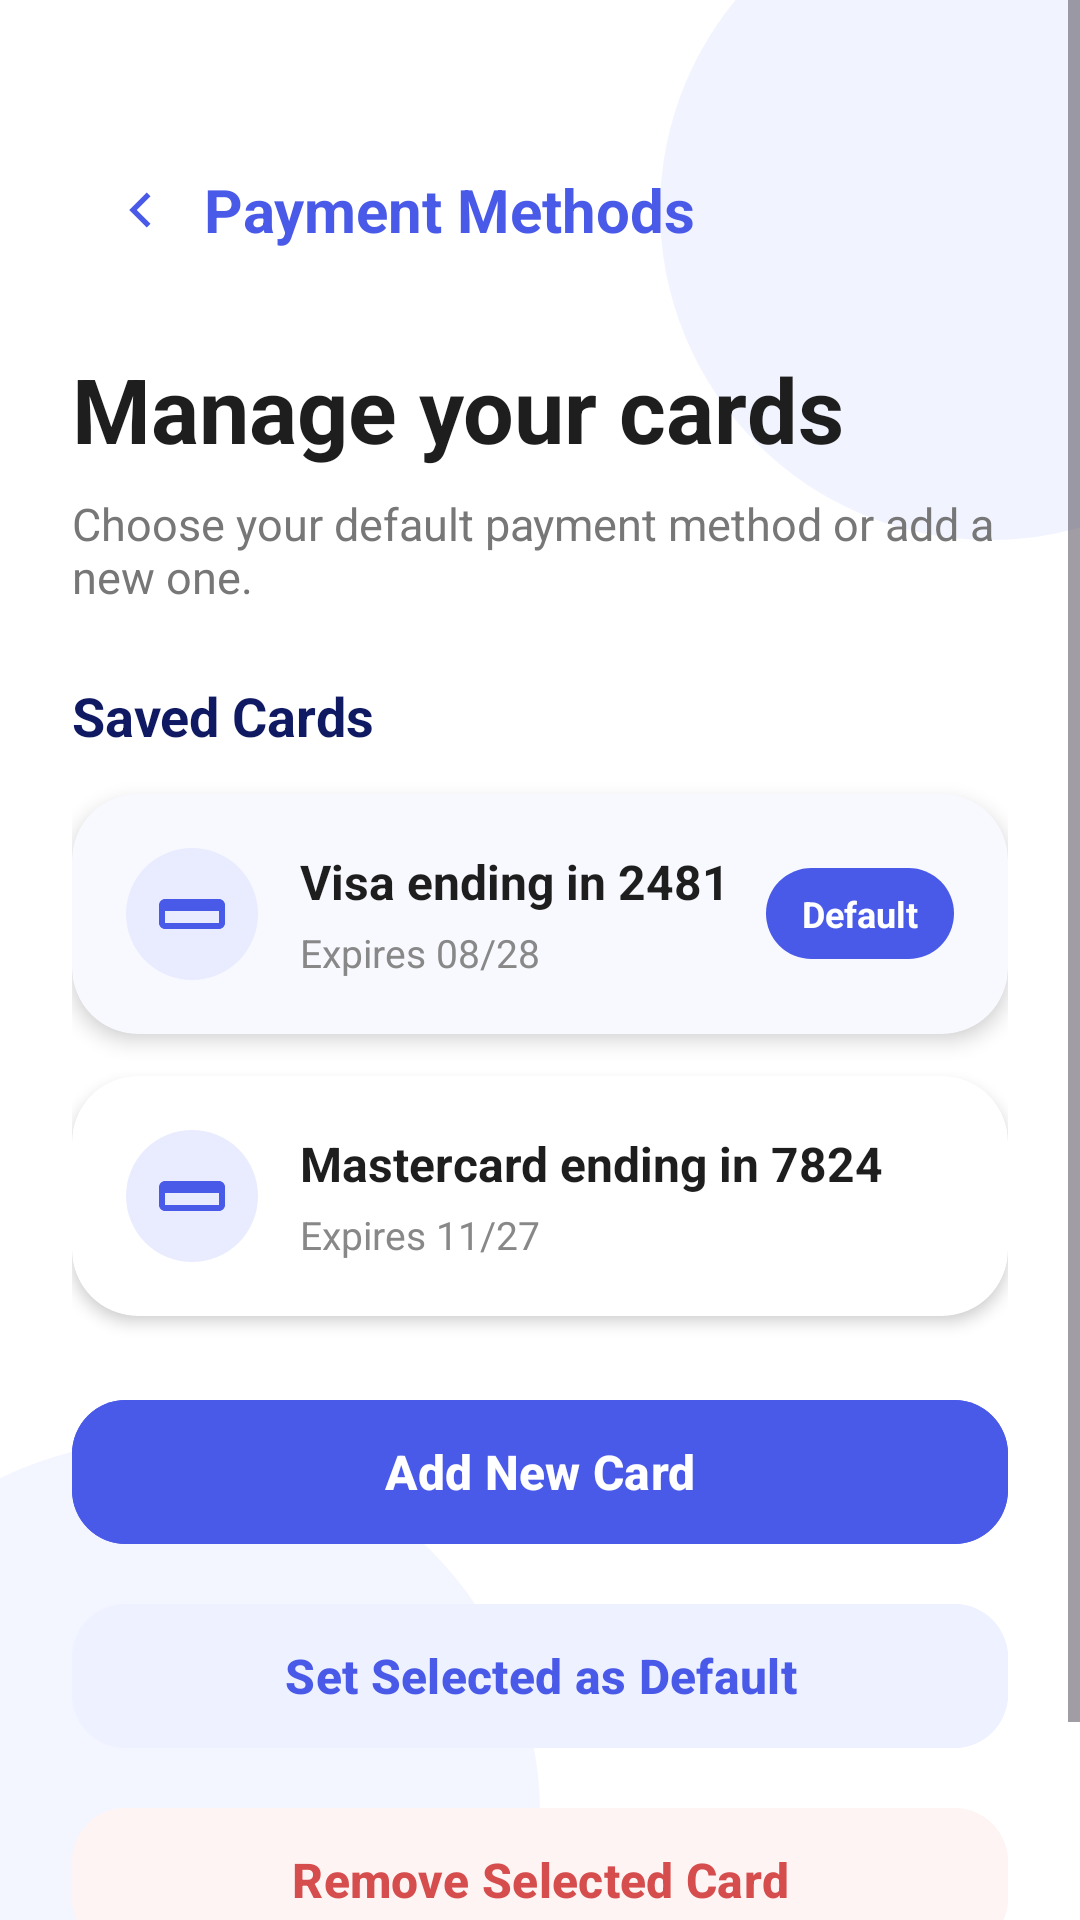

Point at icon controls on the screen. Image size 1080 × 1920, points as (x=x, y=y).
Back: (x=140, y=210)
